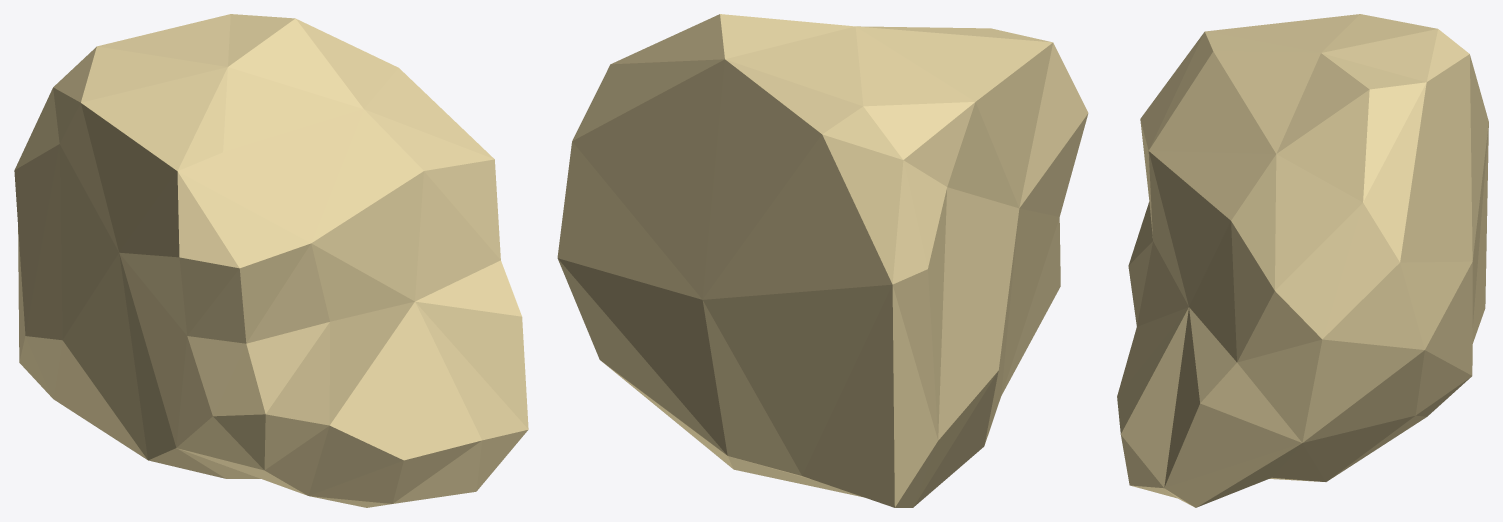
The model's file is Rock (26).fbx.
The picture shows the model from 3 angles, left to right: view 1: azimuth 30°, elevation 25°; view 2: azimuth 150°, elevation 25°; view 3: azimuth 270°, elevation 25°; orthographic projection. The views are drawn at different scales.
Visible parts, largest first — view 1: Asteroid25; view 2: Asteroid25; view 3: Asteroid25.
Part boxes in pixels (x1,y1,x2,y2): Asteroid25: [14, 14, 528, 507]; Asteroid25: [557, 14, 1088, 507]; Asteroid25: [1117, 14, 1488, 507].
Bounding box in the file's own units: 253 × 250 × 219.
